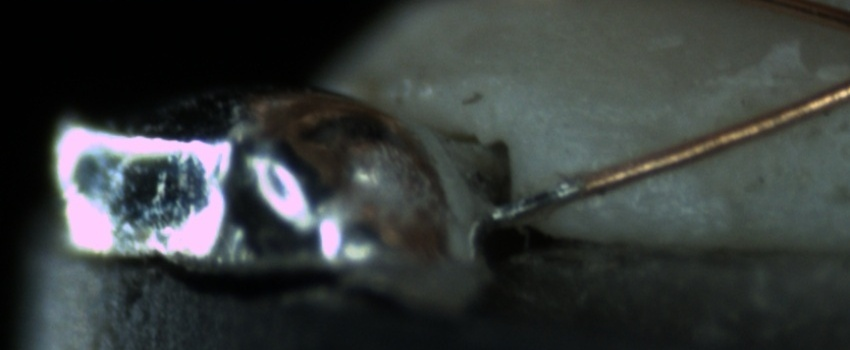DL: (546, 96, 677, 159)
TS: (489, 181, 581, 224)
TTCW: (487, 172, 600, 222)
